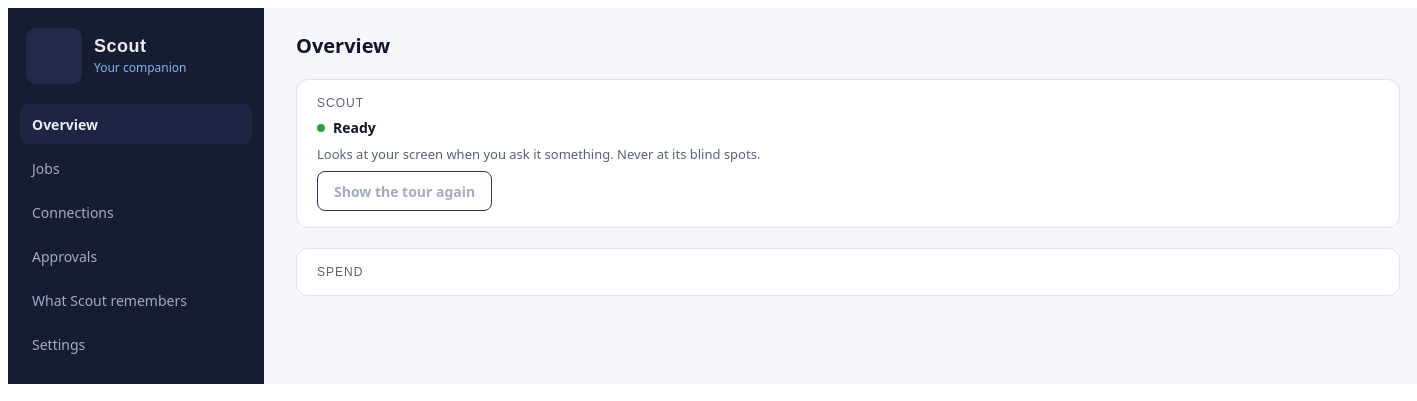
HomeView › shows What Scout remembers, each memory deletable
Click the button "What Scout remembers".
click(136, 300)  # box [20,280,252,320]
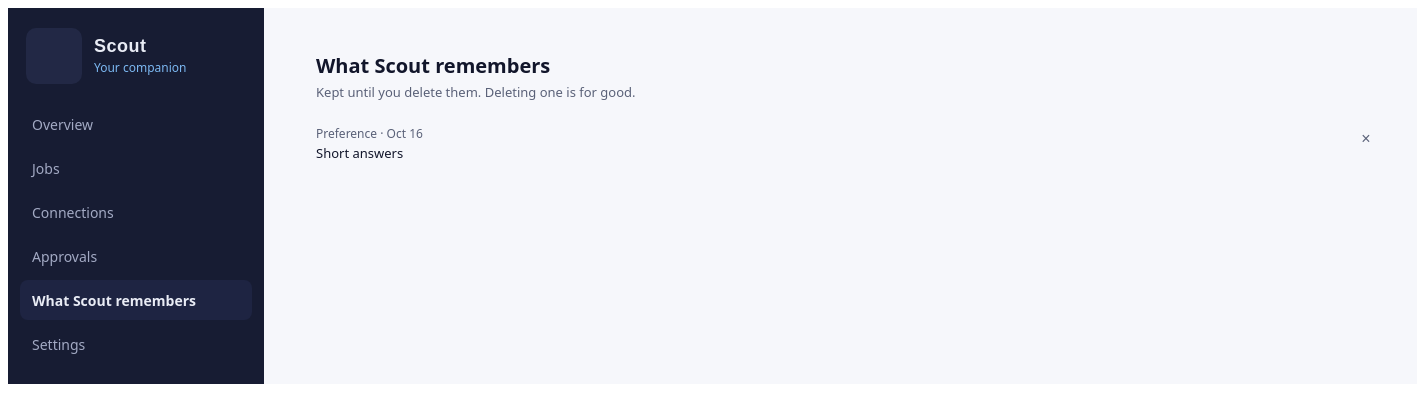
Click the button named "Delete: Short answers".
click(1366, 139)  # box [1352,125,1380,153]
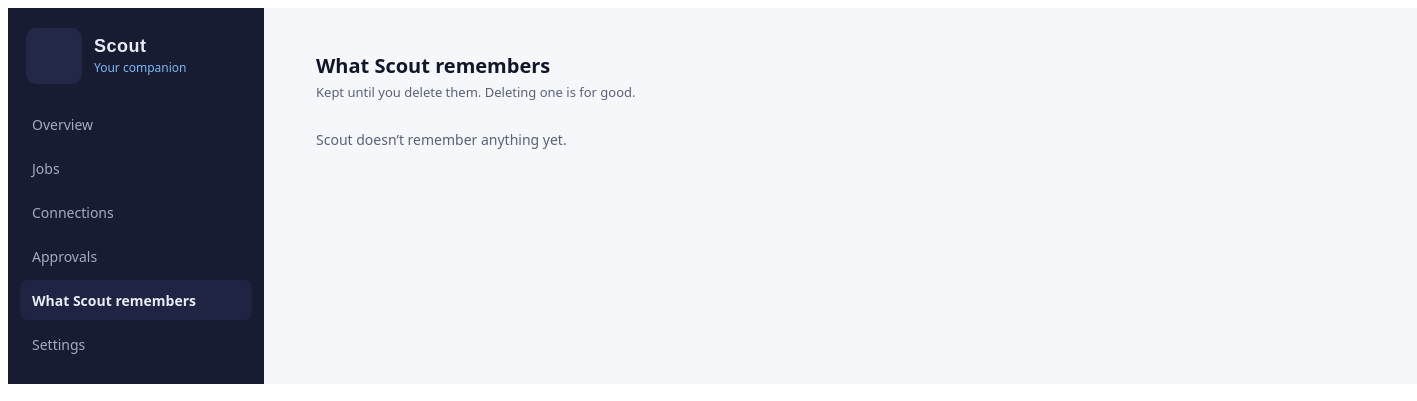
Expected: the text "Scout doesn’t remember anything yet." is shown, [316,130,567,149]
